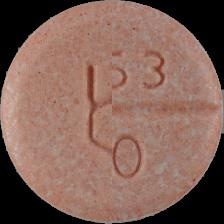0555-0953: (0, 0, 224, 224)
